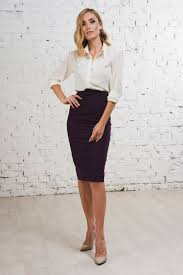F_tailored skirt: (64, 88, 116, 186)
